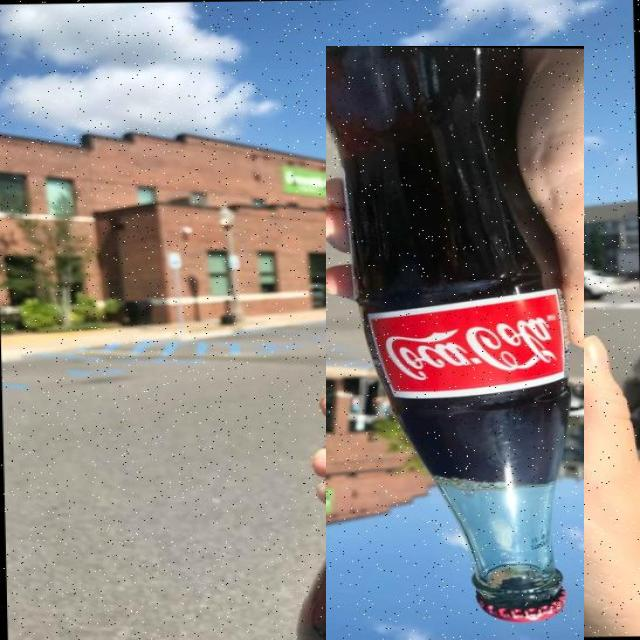coca-cola: (326, 46, 584, 640)
